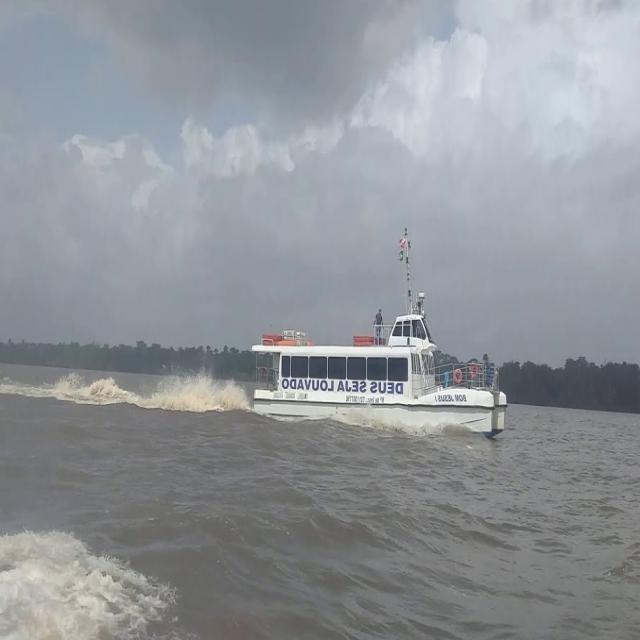houseboat: (256, 298, 511, 420)
